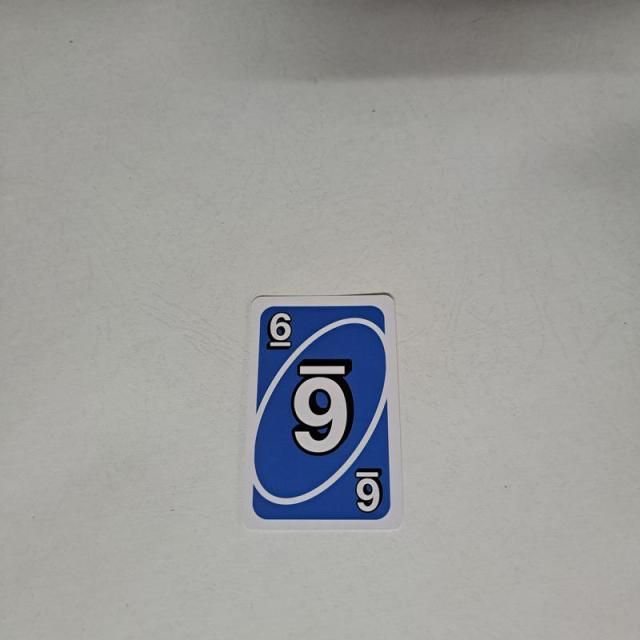Blue_Card: (248, 297, 396, 523)
Number_6: (264, 308, 294, 353)
